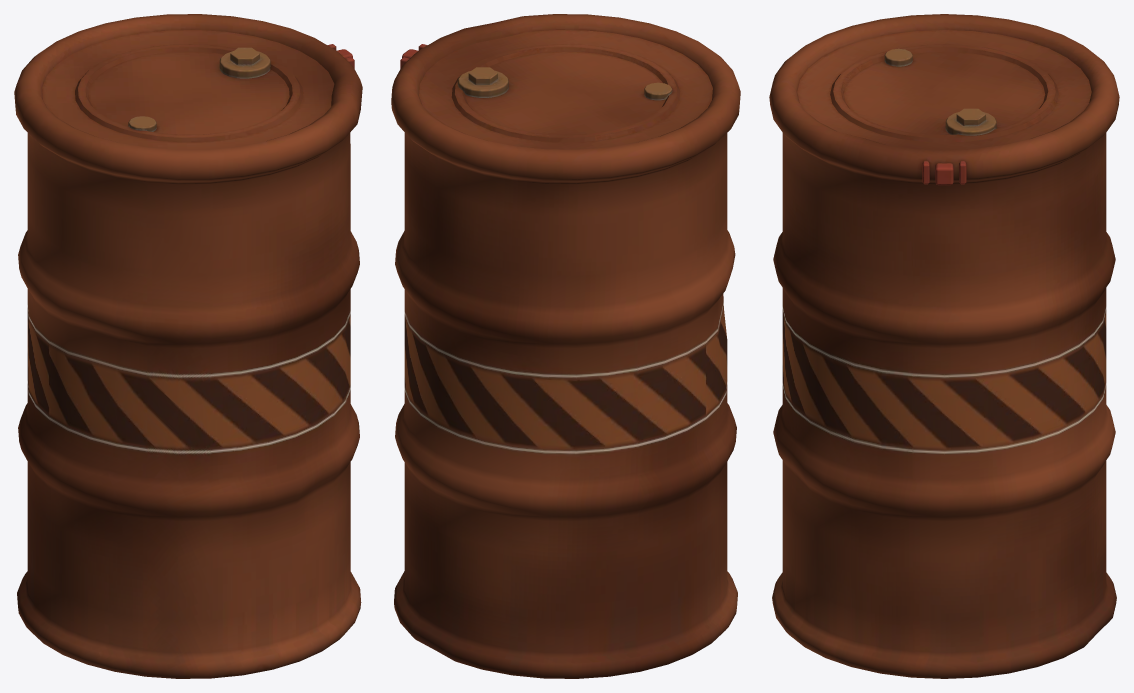
File: barrel-v003.glb
3 views of the same model, side by side, from view 1: azimuth 30°, elevation 25°; view 2: azimuth 150°, elevation 25°; view 3: azimuth 270°, elevation 25° (orthographic).
Visible parts, largest first — view 1: Barrel; view 2: Barrel; view 3: Barrel.
Boxes of the visible parts, x1,y1,x2,y2 form: Barrel: [14, 14, 362, 678]; Barrel: [391, 14, 740, 678]; Barrel: [769, 14, 1119, 678].
Size of the model in its own units: 0.4725 by 0.765 by 0.459.
1 material, 1 textured.
